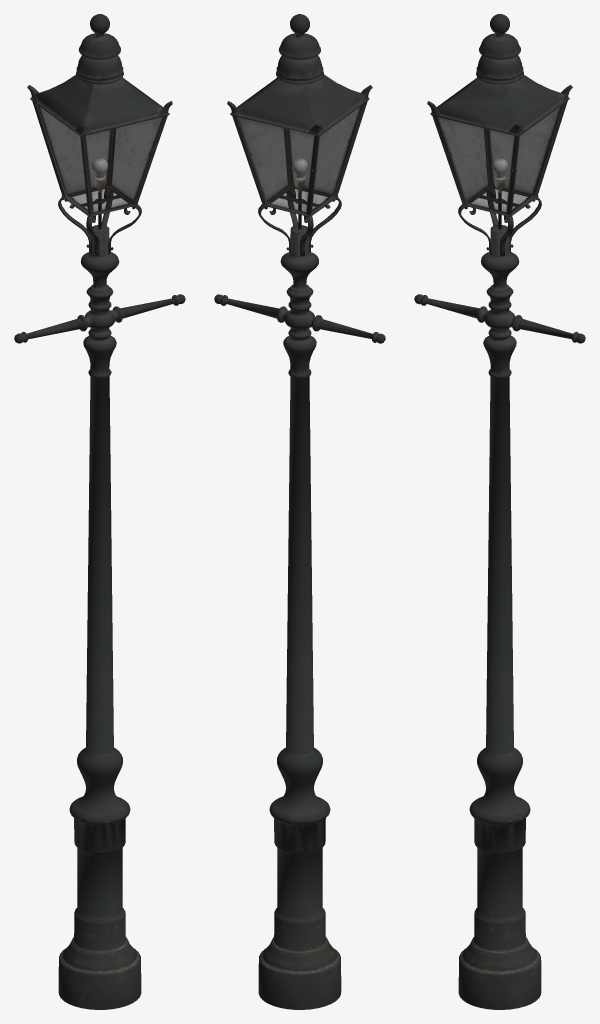
The model's file is street_lamp_01.glb.
3 renders of one model, left to right at view 1: azimuth 30°, elevation 25°; view 2: azimuth 150°, elevation 25°; view 3: azimuth 330°, elevation 25°, orthographic.
Visible parts, largest first — view 1: street_lamp_01; view 2: street_lamp_01; view 3: street_lamp_01.
Boxes of the visible parts, bbox=[...] form: street_lamp_01: bbox=[14, 14, 185, 1009]; street_lamp_01: bbox=[214, 14, 385, 1009]; street_lamp_01: bbox=[414, 14, 585, 1009].
Bounding box in the file's own units: 0.704 × 3.87 × 0.3865.
Materials: 2 (2 with a texture image).
